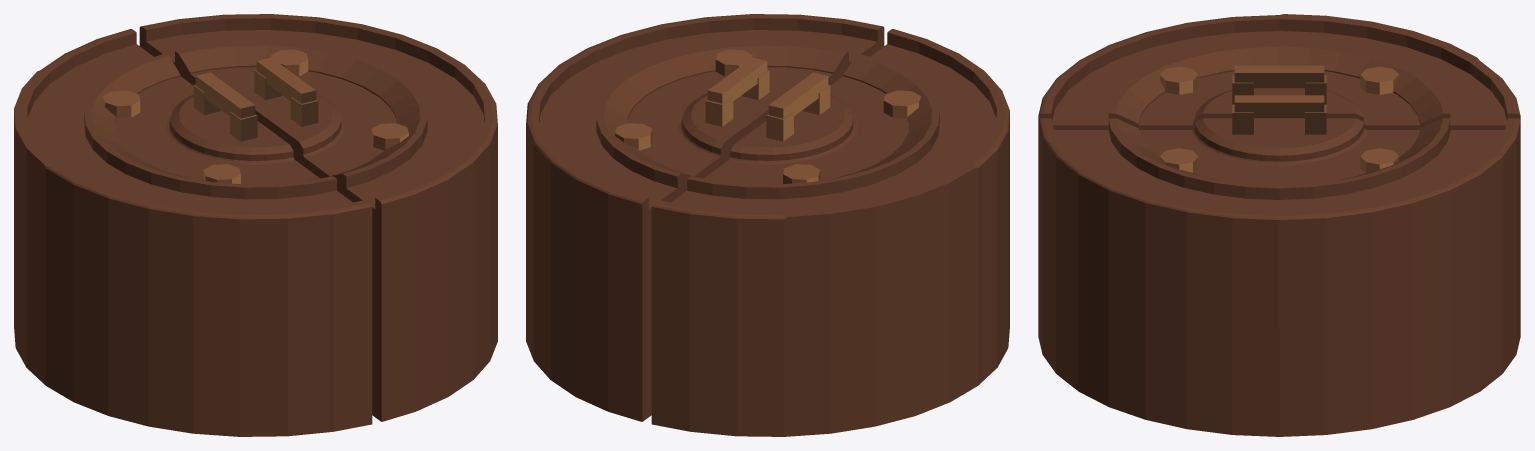
The model's file is wood_door.fbx.
The picture shows the model from 3 angles, left to right: view 1: azimuth 30°, elevation 25°; view 2: azimuth 150°, elevation 25°; view 3: azimuth 270°, elevation 25°; orthographic projection.
Visible parts, largest first — view 1: wood_door_panel_left, wood_door_panel_right; view 2: wood_door_panel_left, wood_door_panel_right; view 3: wood_door_panel_right, wood_door_panel_left.
Part boxes in pixels (x1=…): wood_door_panel_left: x1=14, y1=29, x2=372, y2=436; wood_door_panel_right: x1=139, y1=14, x2=497, y2=421; wood_door_panel_left: x1=651, y1=29, x2=1009, y2=436; wood_door_panel_right: x1=526, y1=14, x2=884, y2=421; wood_door_panel_right: x1=1038, y1=95, x2=1520, y2=436; wood_door_panel_left: x1=1038, y1=14, x2=1520, y2=129.
Bounding box in the file's own units: 4 × 2.29 × 3.99.
1 material, 1 textured.
